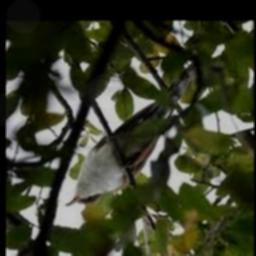Cuckoo: (66, 64, 199, 207)
